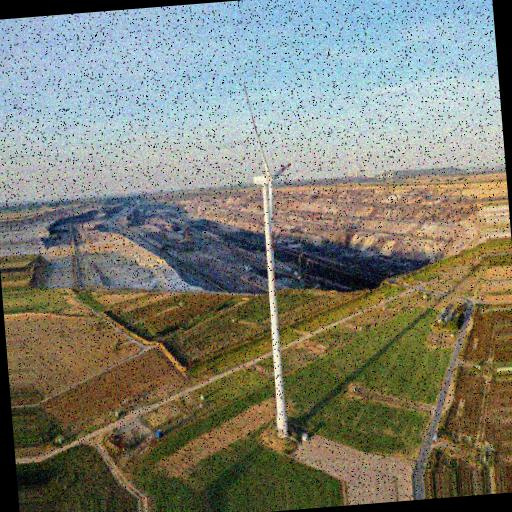wind turbine: (242, 84, 296, 435)
